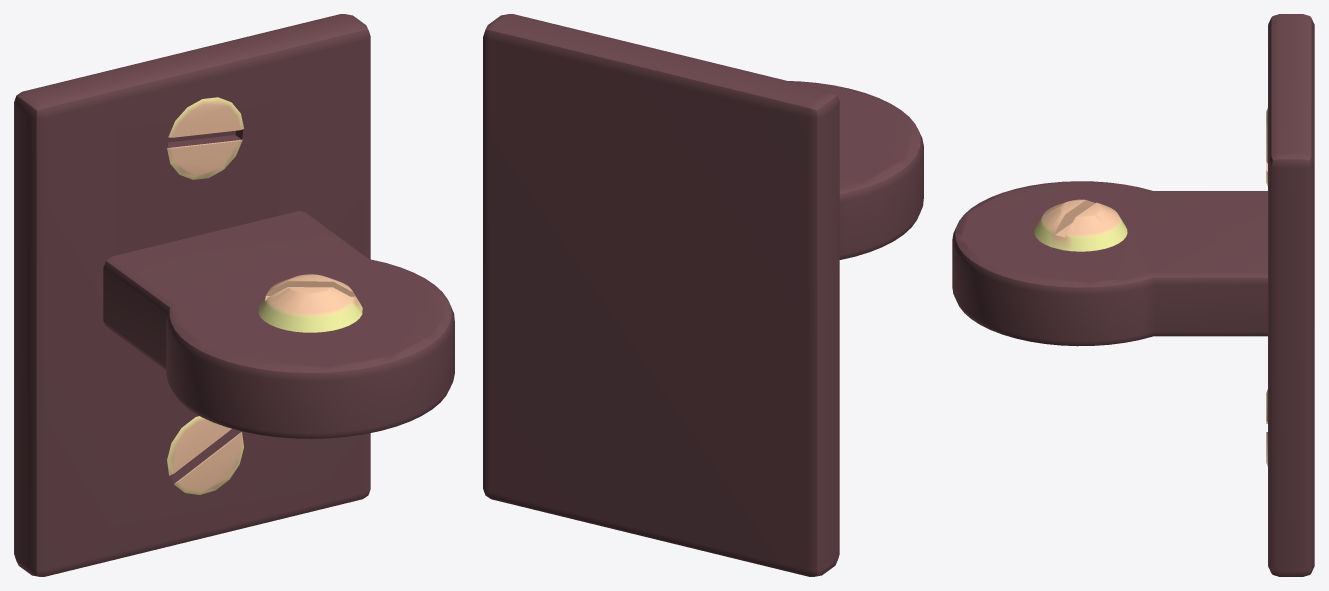
The model's file is Kit_DoorCloser_Shoe.fbx.
The picture shows the model from 3 angles, left to right: view 1: azimuth 30°, elevation 25°; view 2: azimuth 150°, elevation 25°; view 3: azimuth 270°, elevation 25°; orthographic projection. The views are drawn at different scales.
Parts seen in each view (by area): view 1: Kit_DoorCloser_Shoe_LOD0; view 2: Kit_DoorCloser_Shoe_LOD0; view 3: Kit_DoorCloser_Shoe_LOD0.
Boxes of the visible parts, x1,y1,x2,y2 form: Kit_DoorCloser_Shoe_LOD0: (14,14,454,576); Kit_DoorCloser_Shoe_LOD0: (483,14,923,576); Kit_DoorCloser_Shoe_LOD0: (952,14,1314,576).
Size of what is drawn, in the model's own units: 0.03 by 0.04 by 0.031.
